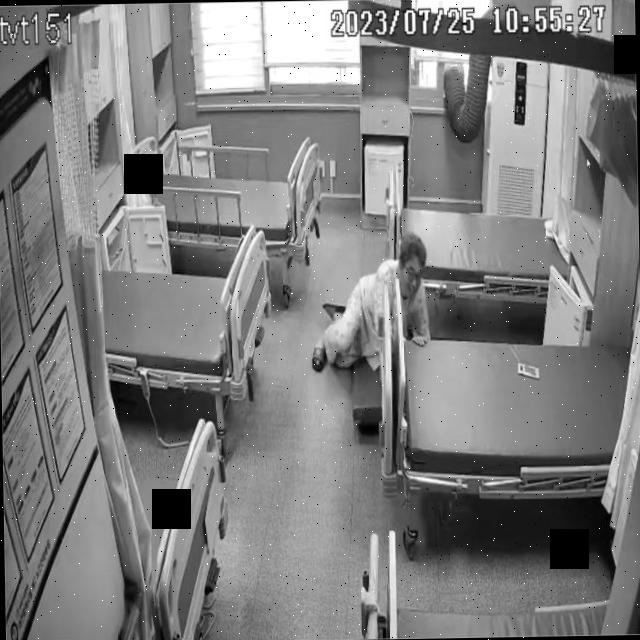bed: (397, 322, 634, 499), (100, 224, 276, 404), (133, 134, 320, 258), (386, 179, 569, 303)
fall: (308, 232, 431, 374)
patient: (308, 232, 430, 372)
